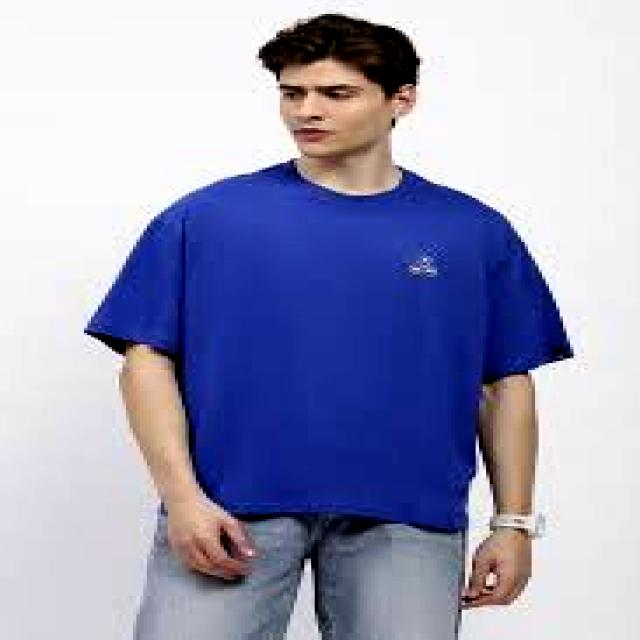face: (280, 59, 416, 158)
lower-wear: (133, 512, 468, 639)
top-wear: (84, 159, 573, 530)
